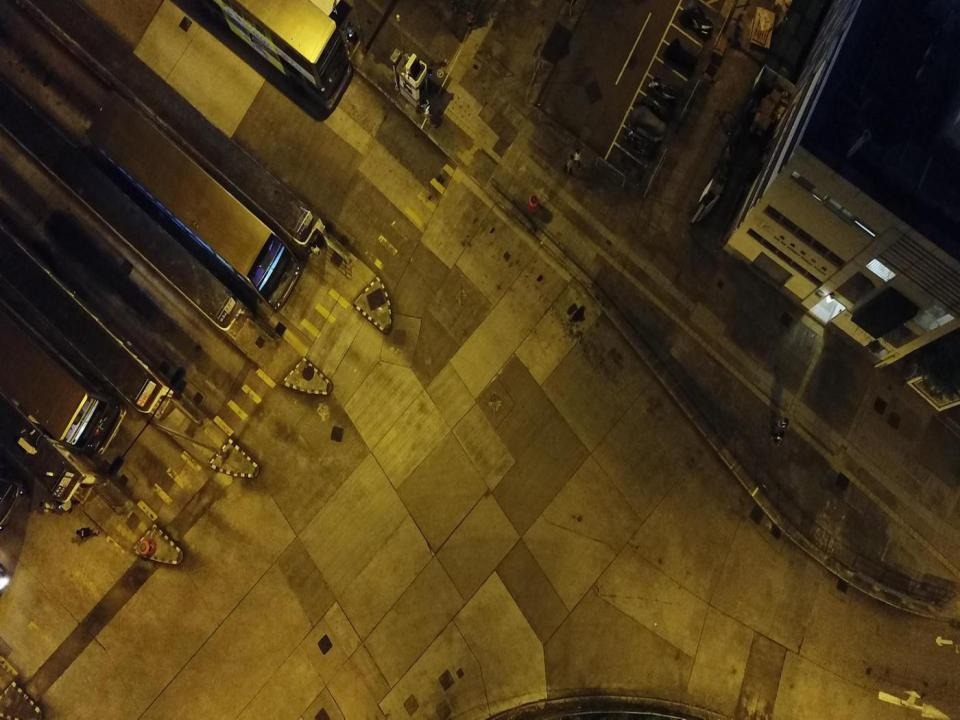bus: (87, 92, 301, 311), (0, 294, 128, 459), (197, 0, 353, 110)
